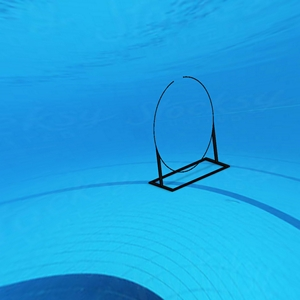circle: (147, 70, 232, 191)
